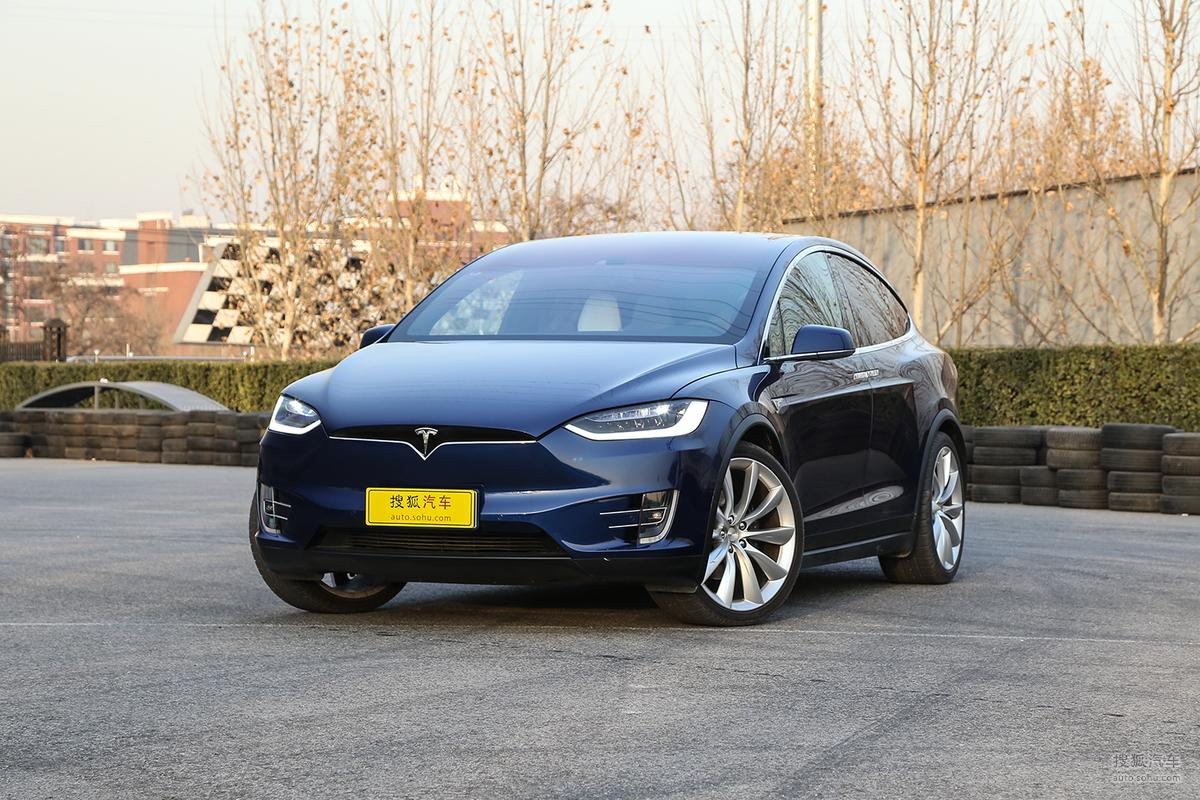Tesla: (415, 427, 438, 454)
